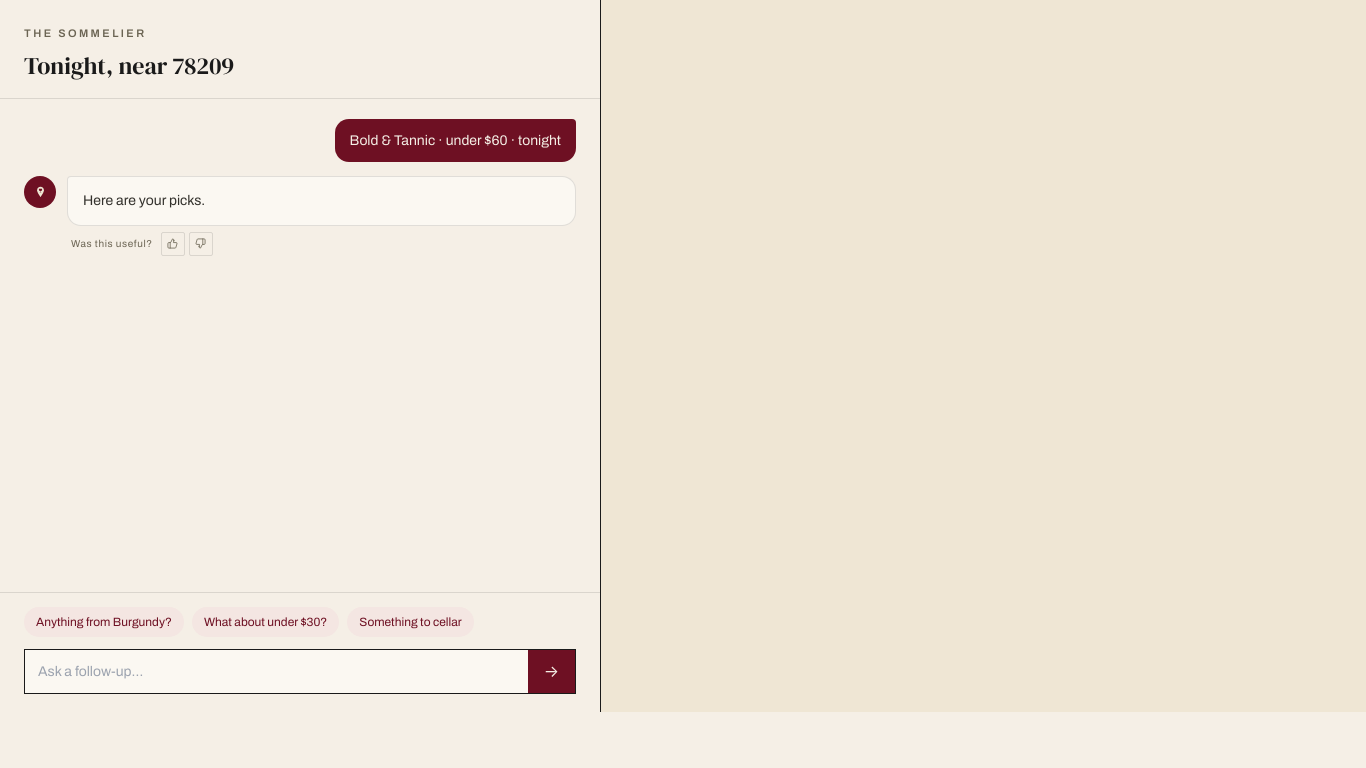
Test case: appends follow-up bubble on thumbs-down of sommelier message
Expected: the text "Was this useful?" is shown, [71,236,153,251]
Click the button titled "Not helpful".
click(201, 244)  # box [189,232,213,256]
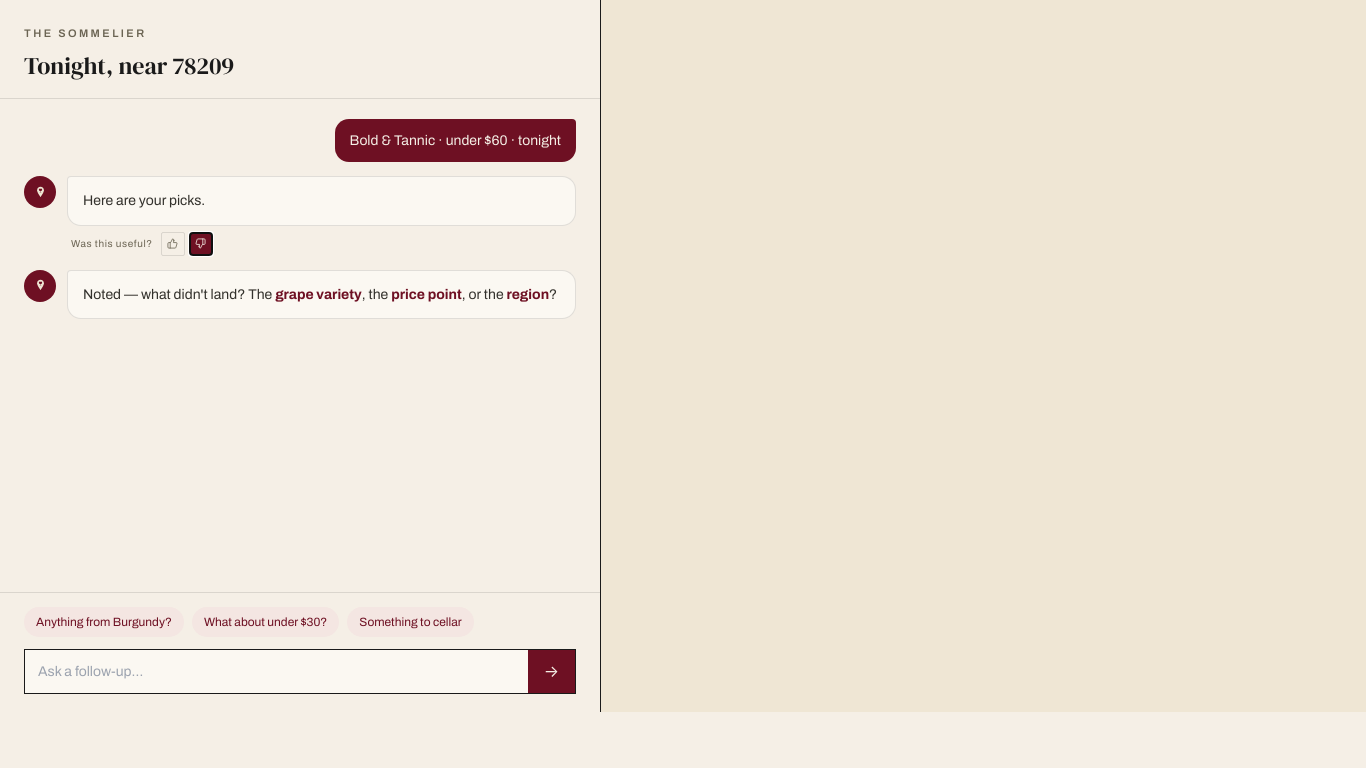
Expected: the text "what didn't land" is shown, [83,287,275,302]
